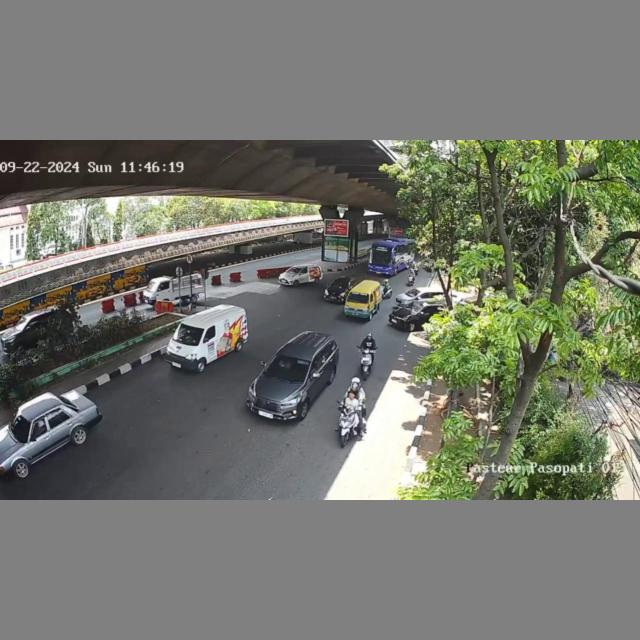windshield: (263, 352, 312, 387), (171, 322, 203, 345), (347, 291, 370, 304)
